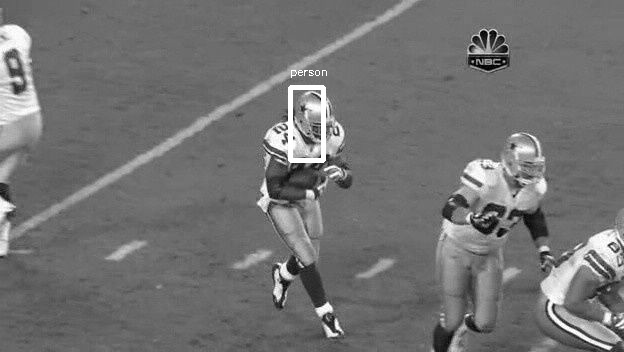person: (297, 92, 334, 139), (296, 92, 333, 139), (298, 92, 335, 139), (297, 91, 334, 138), (297, 93, 334, 140)
target_negative: (77, 21, 440, 274), (297, 135, 561, 317), (260, 61, 445, 134), (245, 250, 521, 260), (561, 174, 618, 206)
